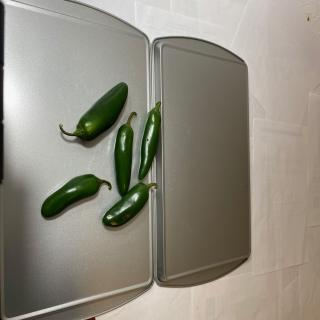Chilli: (40, 173, 112, 219)
Tomato: (59, 82, 128, 142), (102, 182, 158, 227), (113, 111, 137, 197), (138, 101, 161, 180)
